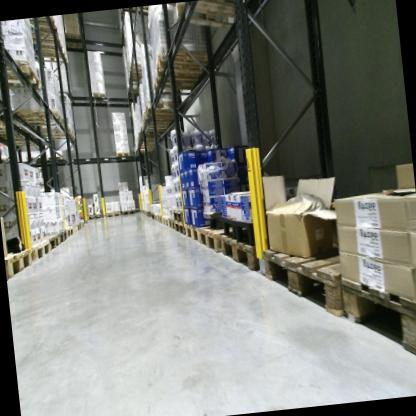pallet: (261, 231, 359, 326), (340, 269, 416, 372), (172, 0, 247, 37), (150, 40, 210, 86), (149, 63, 213, 98), (219, 229, 263, 273), (197, 221, 251, 254), (0, 55, 44, 94), (13, 104, 64, 130), (4, 245, 33, 283), (142, 98, 181, 123), (27, 33, 65, 58), (26, 46, 69, 68), (142, 106, 181, 126), (39, 123, 77, 142), (23, 238, 51, 261), (140, 115, 171, 131), (65, 28, 84, 54), (41, 232, 61, 252), (183, 223, 202, 244), (91, 90, 108, 109), (171, 206, 185, 225), (127, 60, 143, 76), (54, 228, 68, 246), (25, 154, 47, 165), (174, 220, 186, 236), (46, 155, 65, 165), (104, 209, 122, 218), (86, 211, 103, 220), (121, 206, 136, 216), (161, 215, 171, 227), (115, 151, 130, 159), (69, 222, 82, 231), (66, 226, 75, 238), (168, 218, 175, 230), (78, 219, 86, 228), (149, 210, 156, 220), (157, 213, 163, 224), (154, 213, 159, 222), (146, 209, 152, 216)
